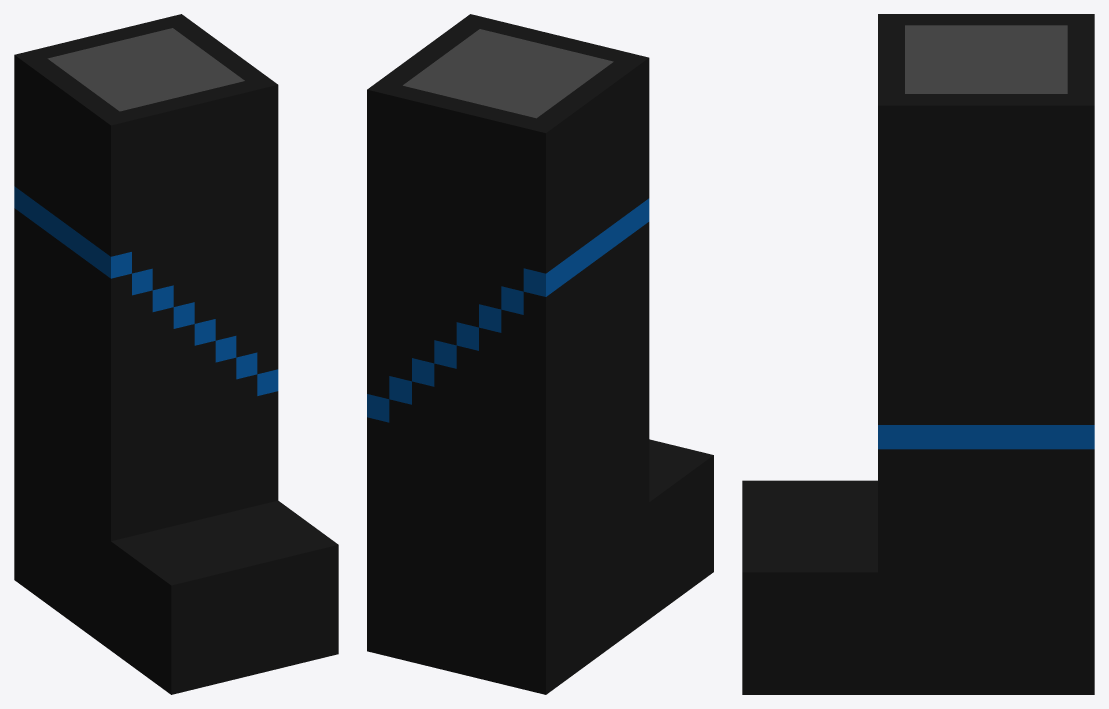
Rendered from Nightwing_Pierna.obj.
3 views of the same model, side by side, from view 1: azimuth 30°, elevation 25°; view 2: azimuth 150°, elevation 25°; view 3: azimuth 270°, elevation 25° (orthographic). The views are drawn at different scales.
Visible parts, largest first — view 1: Nightwing_Pierna; view 2: Nightwing_Pierna; view 3: Nightwing_Pierna.
Part boxes in pixels (left/top/right/bottom): Nightwing_Pierna: left=14, top=14, right=338, bottom=694; Nightwing_Pierna: left=367, top=14, right=713, bottom=694; Nightwing_Pierna: left=742, top=14, right=1094, bottom=694.
Size of the model in its own units: 0.8 by 2.4 by 1.3.
1 material, 1 textured.
